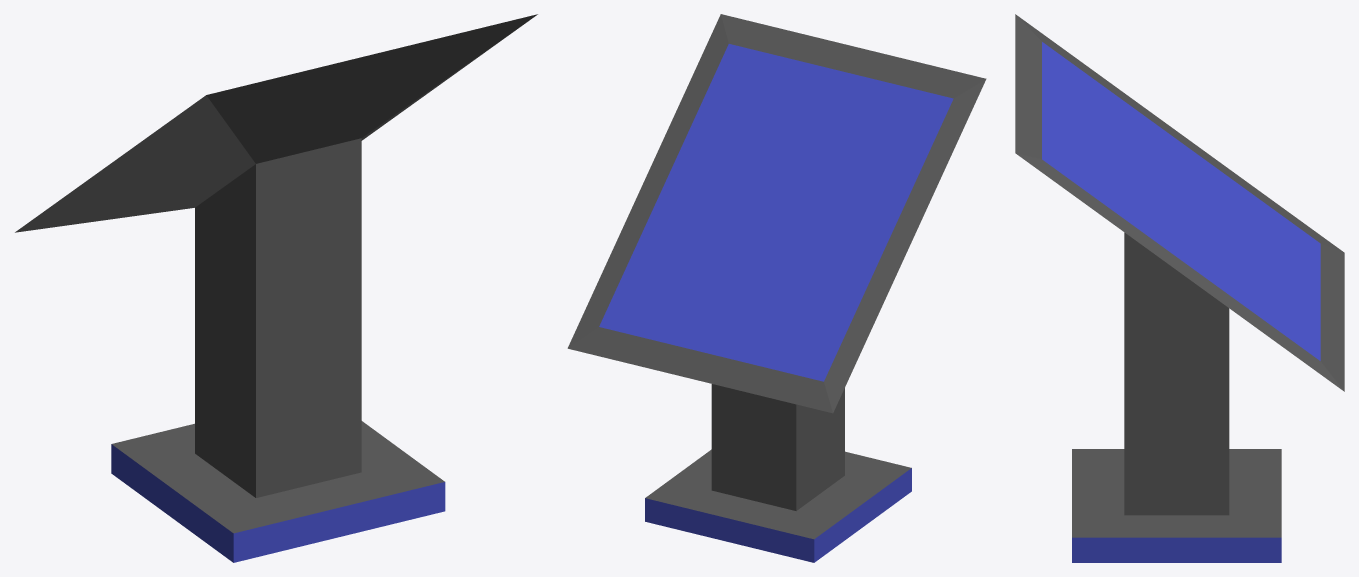
File: TradeBot.fbx
3 views of the same model, side by side, from view 1: azimuth 30°, elevation 25°; view 2: azimuth 150°, elevation 25°; view 3: azimuth 270°, elevation 25° (orthographic). The views are drawn at different scales.
Parts seen in each view (by area): view 1: Cube; view 2: Cube; view 3: Cube.
Part boxes in pixels (<box>): Cube: <box>15,14,537,562</box>; Cube: <box>567,14,986,562</box>; Cube: <box>1015,14,1344,562</box>.
Size of the model in its own units: 471 by 687 by 471.
